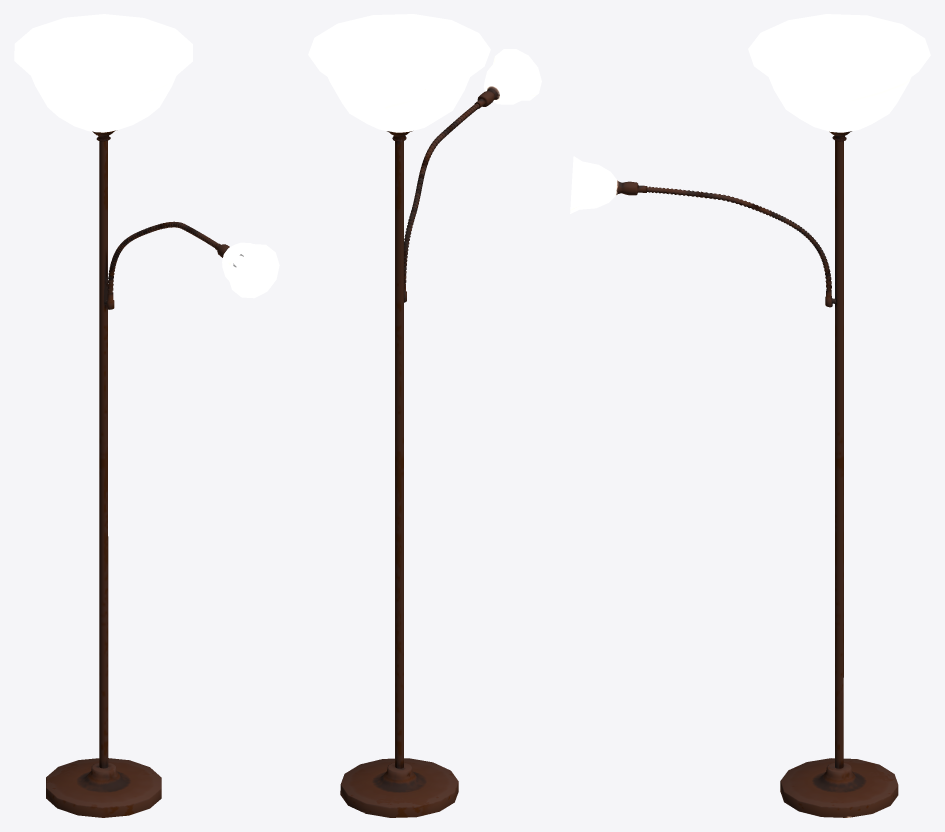
Rendered from light_floor_lamp.fbx.
3 renders of one model, left to right at view 1: azimuth 30°, elevation 25°; view 2: azimuth 150°, elevation 25°; view 3: azimuth 270°, elevation 25°, orthographic.
Visible parts, largest first — view 1: Cylinder.038; view 2: Cylinder.038; view 3: Cylinder.038.
Boxes of the visible parts, x1,y1,x2,y2 form: Cylinder.038: [14, 14, 279, 817]; Cylinder.038: [308, 14, 541, 817]; Cylinder.038: [570, 14, 930, 817].
Size of the model in its own units: 37.82 by 171 by 75.24.
